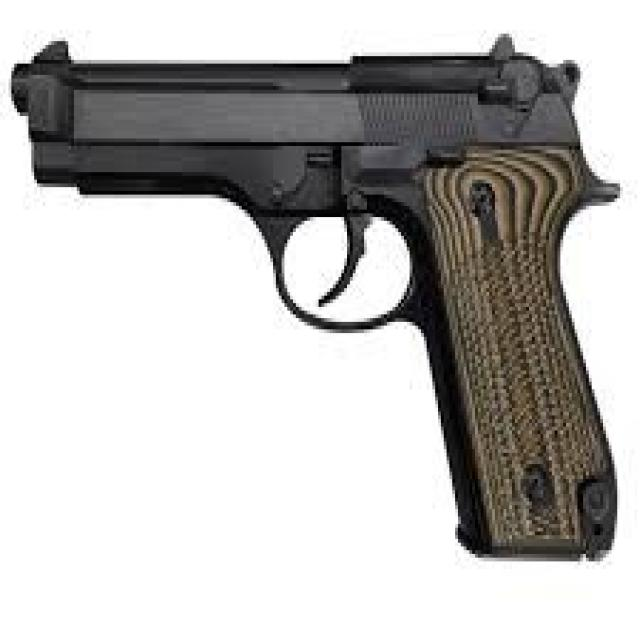pistol: (1, 21, 635, 574)
